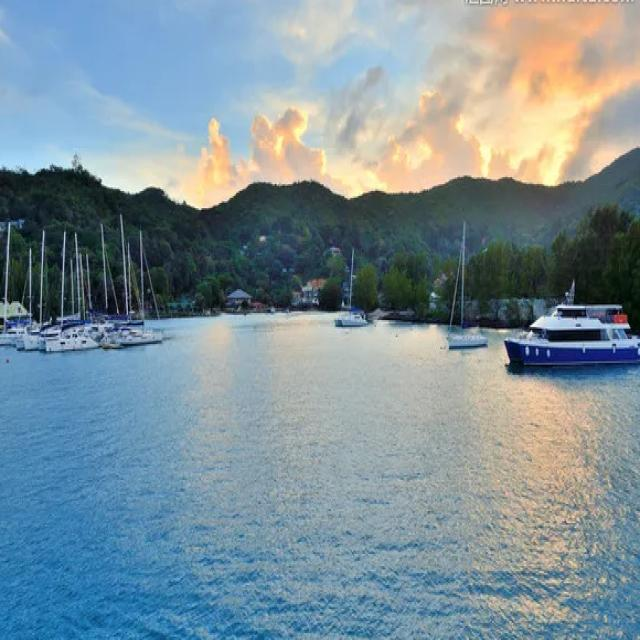houseboat: (499, 284, 640, 373)
sailboat: (104, 213, 160, 350), (48, 226, 101, 356), (444, 216, 490, 350), (0, 230, 43, 352), (330, 244, 370, 329)
